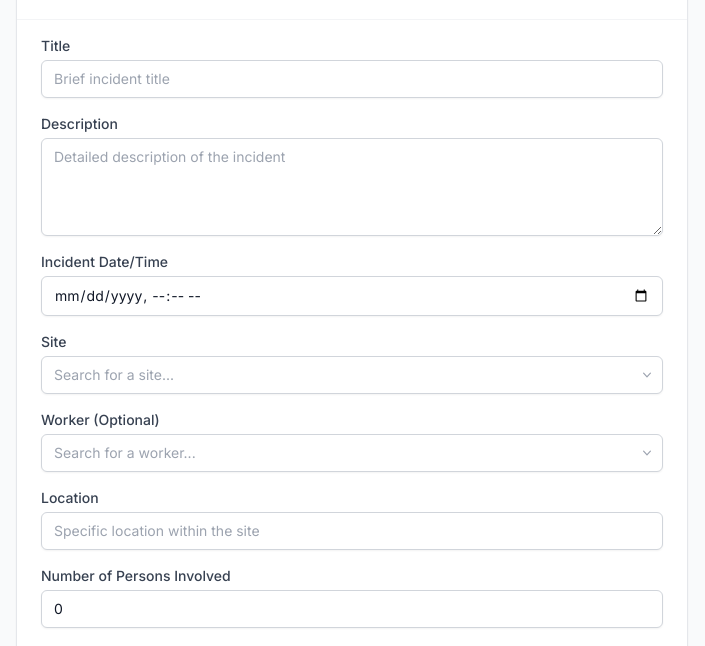
Test: IncidentCreateForm › Form submission › displays API error message when submission fails
The image size is (705, 646).
// Fill all required fields
Type "Test incident title" into the field labelled "Title".
click(352, 79); type("Test incident title")  # box [41,60,663,98]
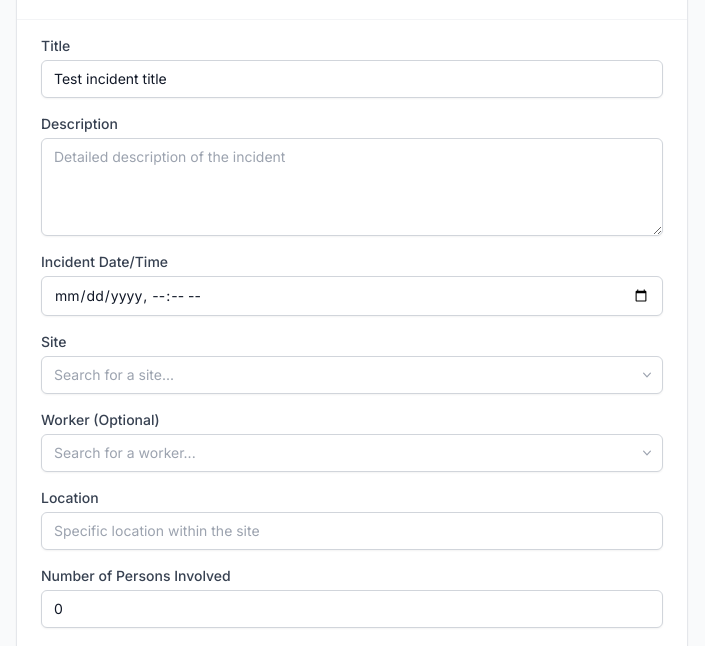
Type "A detailed description of the incident" into the text box labelled "Description".
click(352, 187); type("A detailed description of the incident")  # box [41,138,663,236]
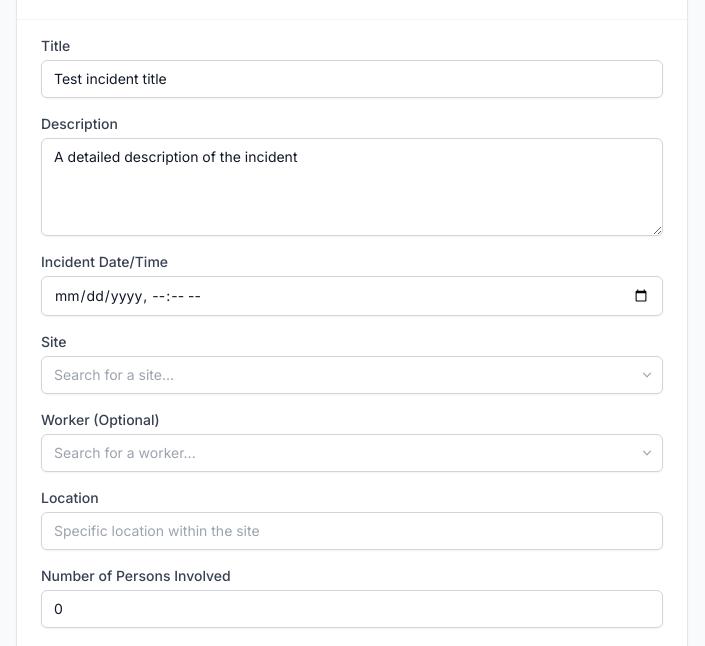
Type "2024-06-15T14:30" into the field labelled "Incident Date/Time".
click(352, 296); type("2024-06-15T14:30")  # box [41,276,663,316]
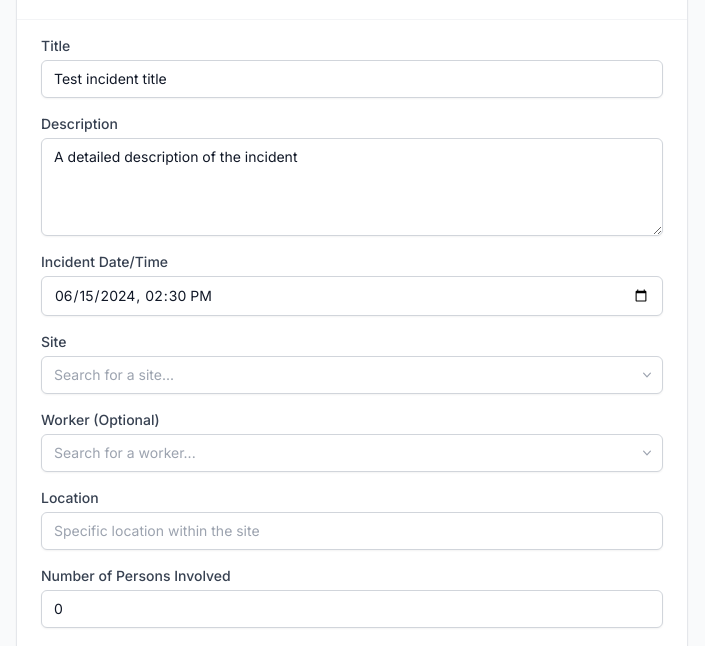
Type "Building A" into the field labelled "Location".
click(352, 531); type("Building A")  # box [41,512,663,550]
(page scrolled)
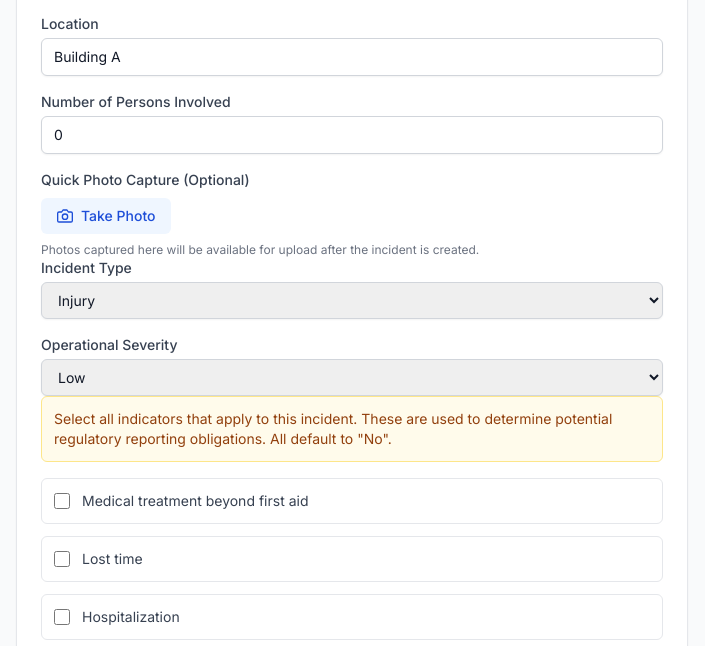
Select "Injury" in the dropdown labelled "Incident Type" at (352, 300), box [41,282,663,319]
Select "Medium" in the dropdown labelled "Operational Severity" at (352, 378), box [41,359,663,396]
(page scrolled)
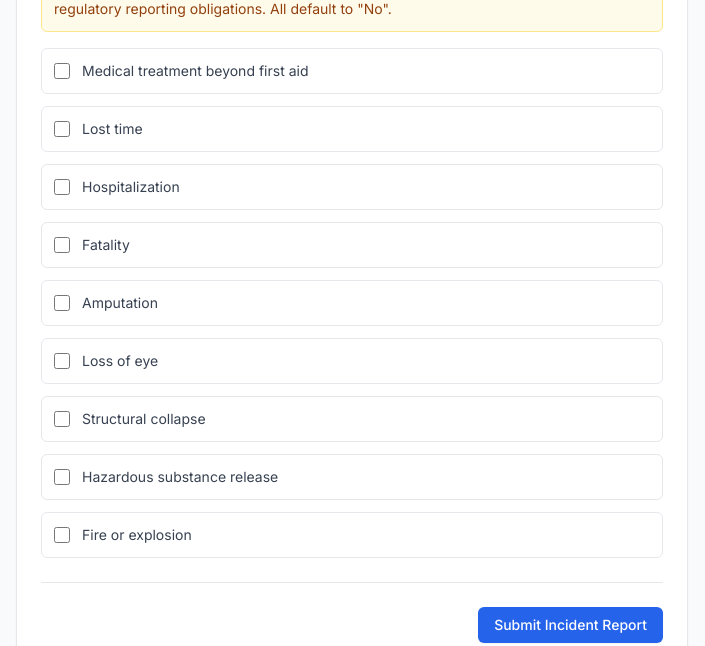
// Submit directly
Click the button "Submit Incident Report".
click(571, 625)  # box [478,607,663,643]
(page scrolled)
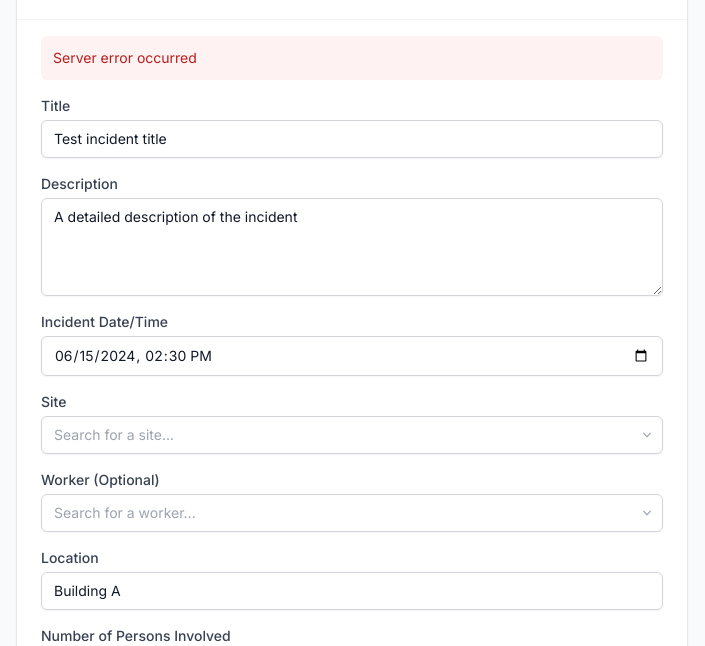
Now the text "Server error occurred" is shown, box [53,49,197,66]
